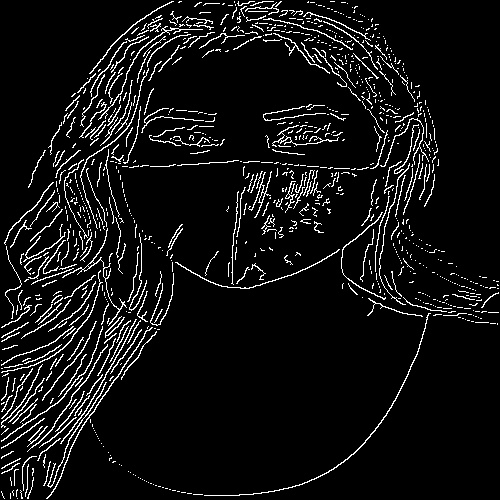mask: (115, 153, 387, 291)
